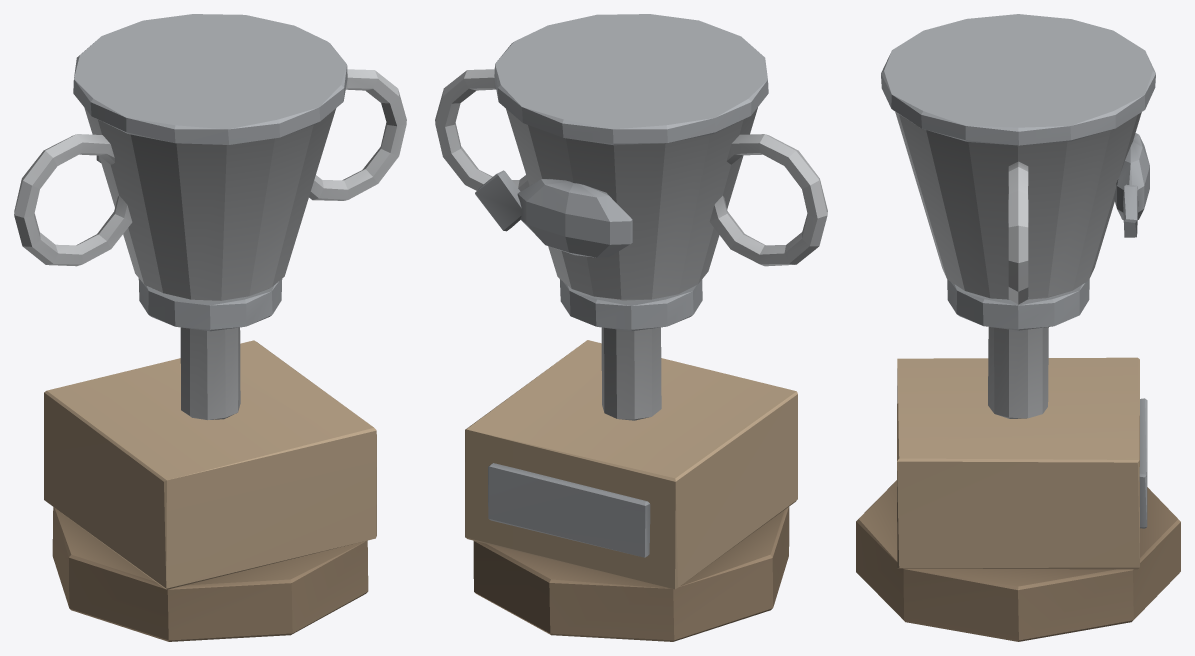
Rendered from event_trophy_fish_silver_low.glb.
3 renders of one model, left to right at view 1: azimuth 30°, elevation 25°; view 2: azimuth 150°, elevation 25°; view 3: azimuth 270°, elevation 25°, orthographic.
Size of the model in its own units: 0.4423 by 0.545 by 0.3186.
